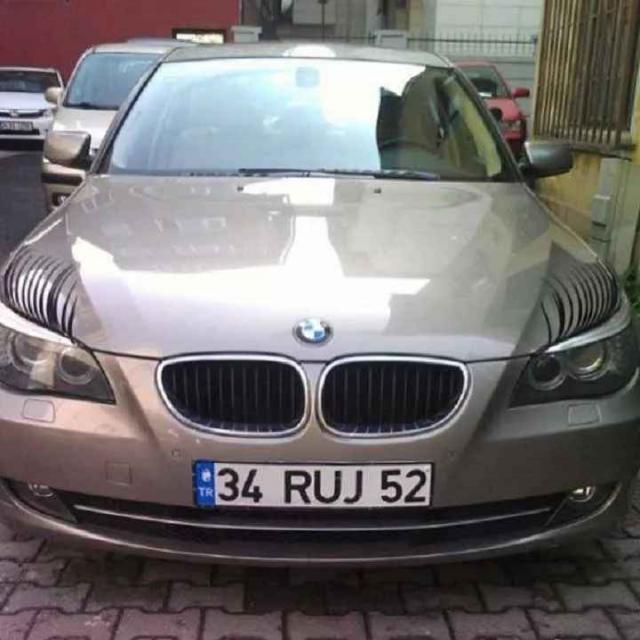plate: (194, 461, 436, 509)
